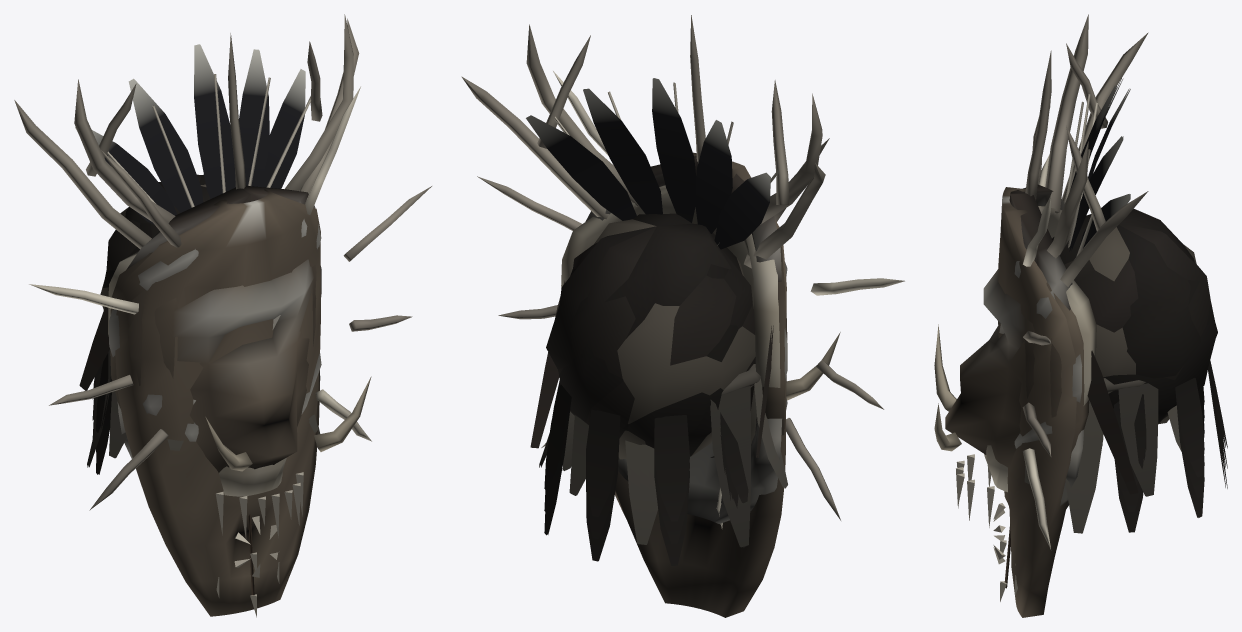
Rendered from masks_lo.glb.
3 views of the same model, side by side, from view 1: azimuth 30°, elevation 25°; view 2: azimuth 150°, elevation 25°; view 3: azimuth 270°, elevation 25° (orthographic). The views are drawn at different scales.
Parts seen in each view (by area): view 1: mask0, mask4, mask3, mask2, mask1, rags; view 2: mask3, mask1, mask0, mask2, mask4, rags; view 3: mask0, mask4, mask2, mask1, mask3, rags.
Part boxes in pixels (x1,y1,x2,y2): mask0: [74, 14, 353, 616]; mask4: [79, 174, 371, 472]; mask3: [75, 44, 310, 617]; mask2: [29, 33, 431, 510]; mask1: [14, 18, 359, 538]; rags: [87, 349, 320, 467]; mask3: [526, 78, 781, 523]; mask1: [461, 35, 825, 565]; mask0: [526, 24, 822, 617]; mask2: [477, 15, 904, 547]; mask4: [530, 226, 840, 457]; rags: [539, 364, 787, 547]; mask0: [993, 14, 1227, 617]; mask4: [934, 223, 1210, 494]; mask2: [1009, 50, 1227, 549]; mask1: [956, 32, 1227, 532]; mask3: [999, 78, 1200, 601]; rags: [1024, 378, 1181, 533].
Size of the model in its own units: 0.6064 by 0.812 by 0.3904.
